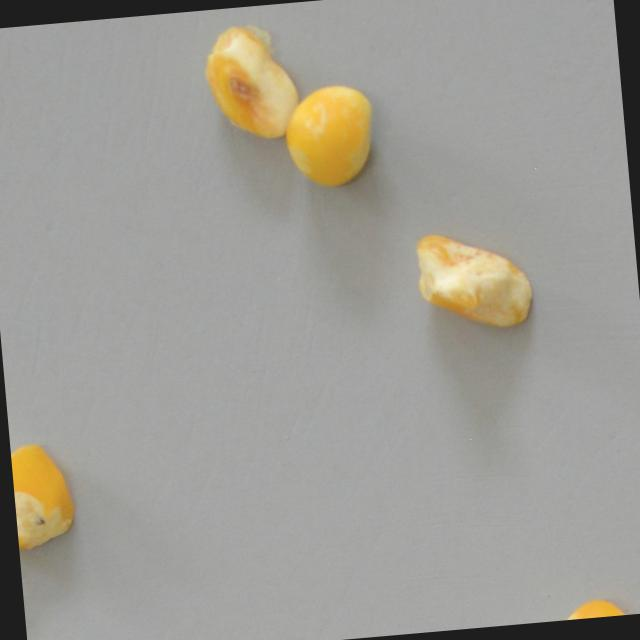dañado: (194, 12, 304, 144), (9, 433, 85, 552)
no_canjicado: (539, 593, 640, 622)
pelicula: (403, 218, 542, 339), (277, 78, 381, 192)
